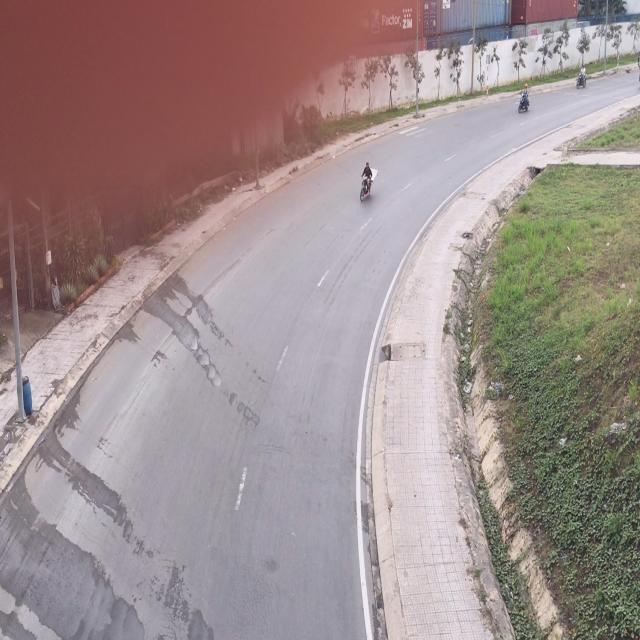motorbike: (358, 160, 375, 210), (517, 82, 533, 116)
